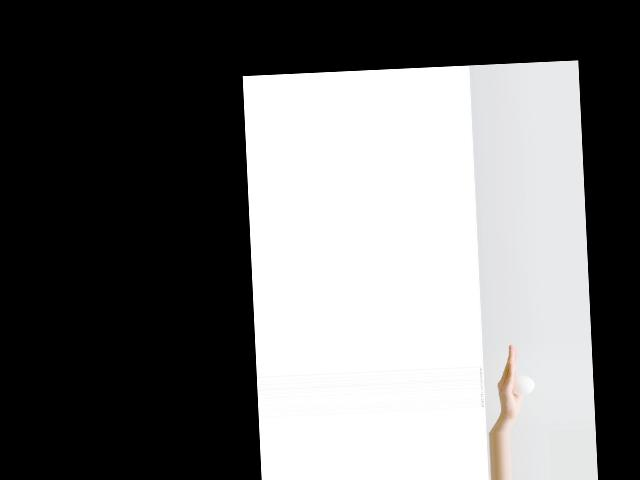egg: (511, 375, 534, 394)
